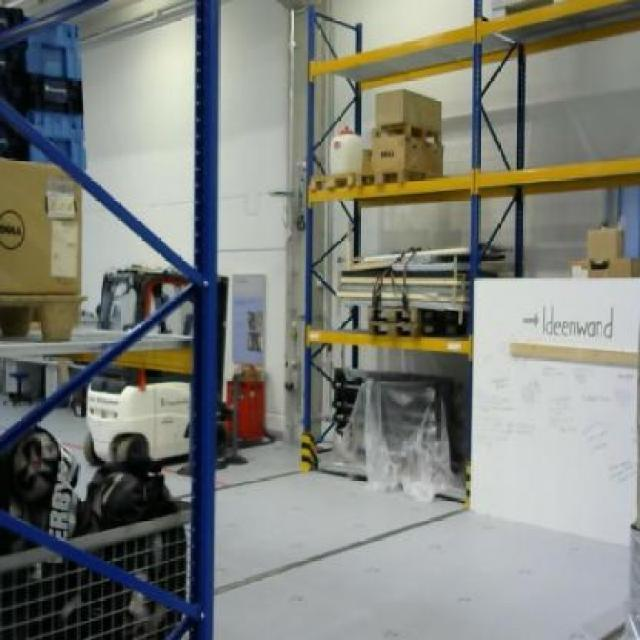box: (0, 158, 83, 294), (373, 86, 442, 134), (371, 134, 444, 178), (583, 225, 626, 264)
